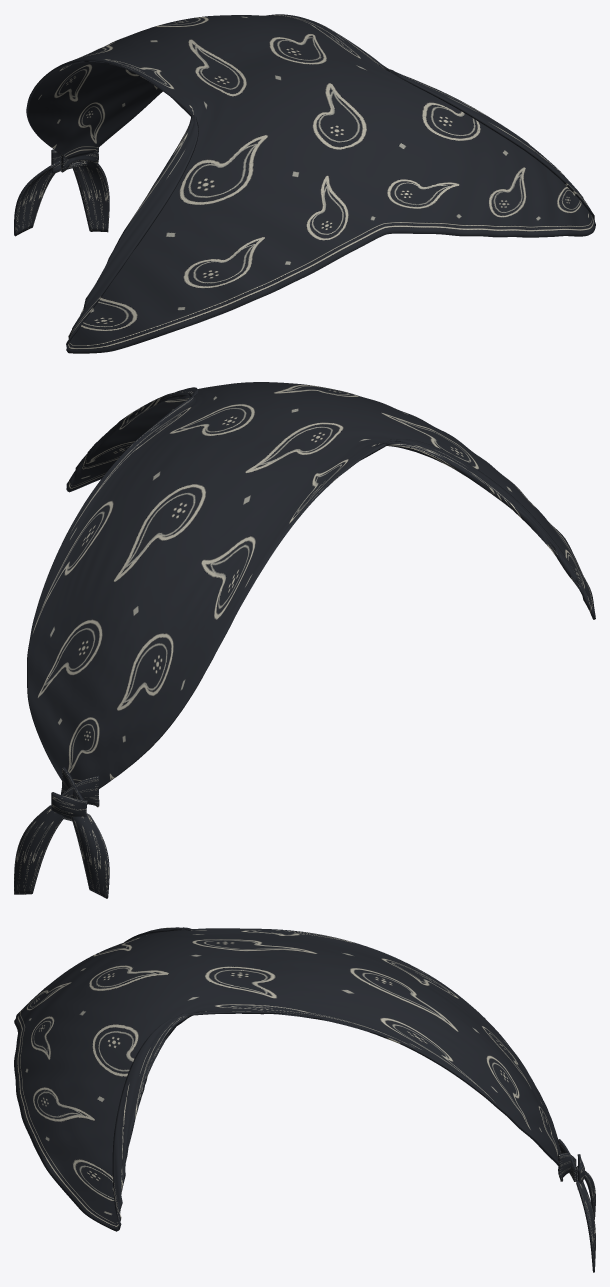
Rendered from Feminine-space-buns-bandana.glb.
The picture shows the model from 3 angles, top to bottom: view 1: azimuth 30°, elevation 25°; view 2: azimuth 150°, elevation 25°; view 3: azimuth 270°, elevation 25°; orthographic projection. The views are drawn at different scales.
Parts seen in each view (by area): view 1: Bandana / folded crown scarf, Bandana / falling tie 1, Bandana / falling tie -1; view 2: Bandana / folded crown scarf, Bandana / falling tie 1, Bandana / falling tie -1, Bandana / knot cross-fold; view 3: Bandana / folded crown scarf, Bandana / falling tie 1.
Part boxes in pixels (x1,y1,x2,y2): Bandana / folded crown scarf: [26, 14, 595, 353]; Bandana / falling tie 1: [72, 161, 109, 232]; Bandana / falling tie -1: [14, 160, 60, 236]; Bandana / folded crown scarf: [27, 382, 595, 789]; Bandana / falling tie 1: [14, 805, 64, 894]; Bandana / falling tie -1: [71, 813, 109, 898]; Bandana / knot cross-fold: [51, 792, 87, 821]; Bandana / folded crown scarf: [14, 927, 561, 1231]; Bandana / falling tie 1: [576, 1167, 595, 1272].
Bounding box in the file's own units: 0.66 × 0.3973 × 0.7131.
Materials: 1 (1 with a texture image).
